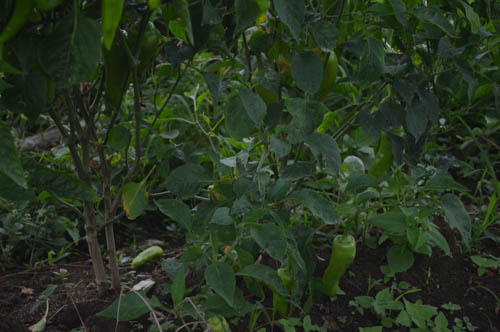ChiliPepper: (105, 34, 131, 105), (326, 237, 356, 297), (129, 25, 160, 63)
